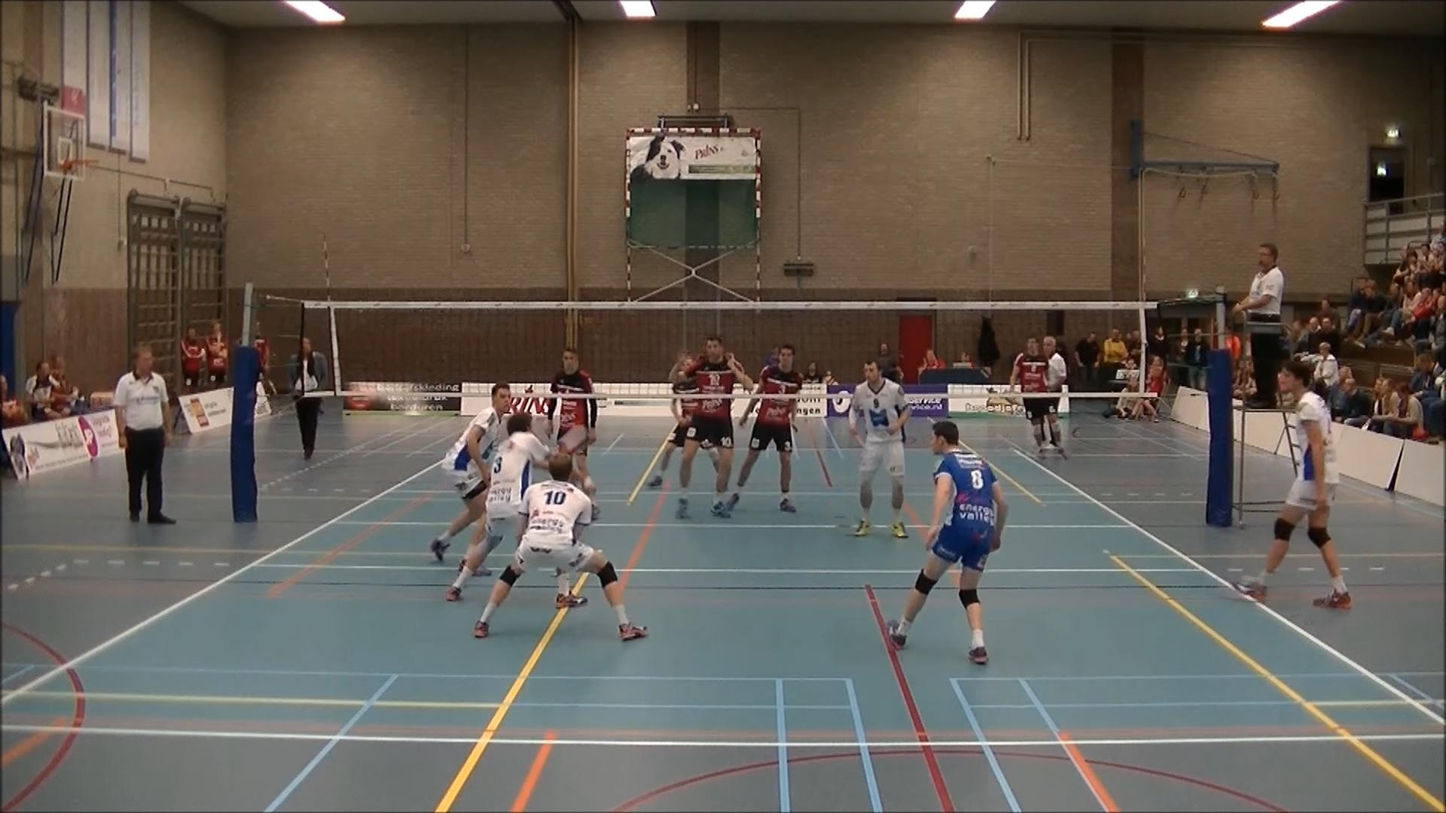ricezione: (445, 413, 579, 599)
